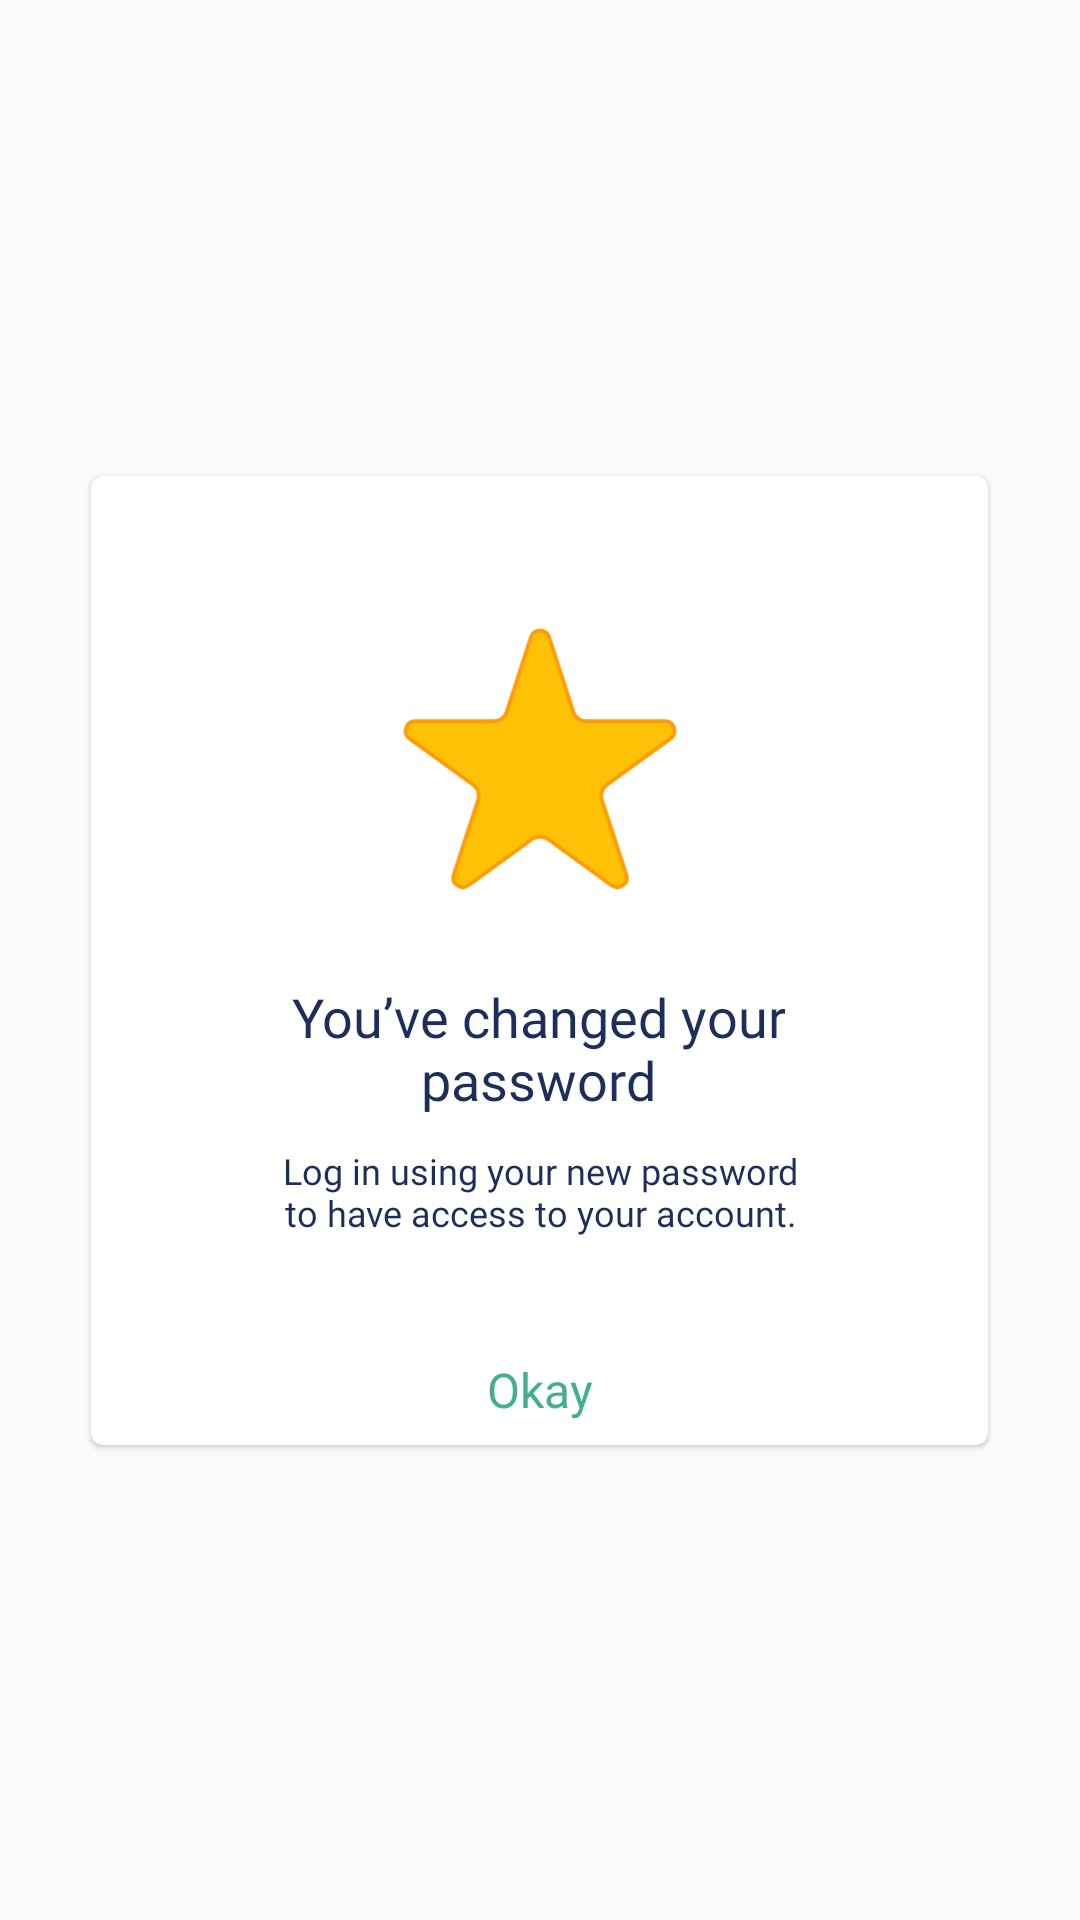

Locate icon controls on the screen. Image size 1080w x 1920h, boxes as (x1, y1, x2, y2).
star: (403, 628, 677, 890)
